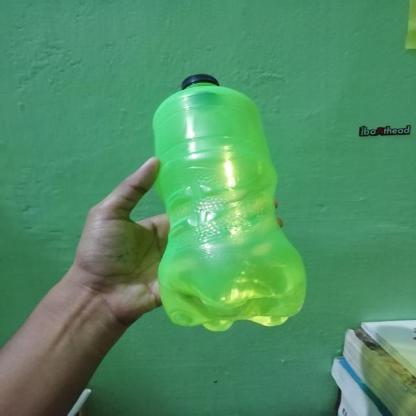Plastic Bottle: (153, 74, 307, 332)
